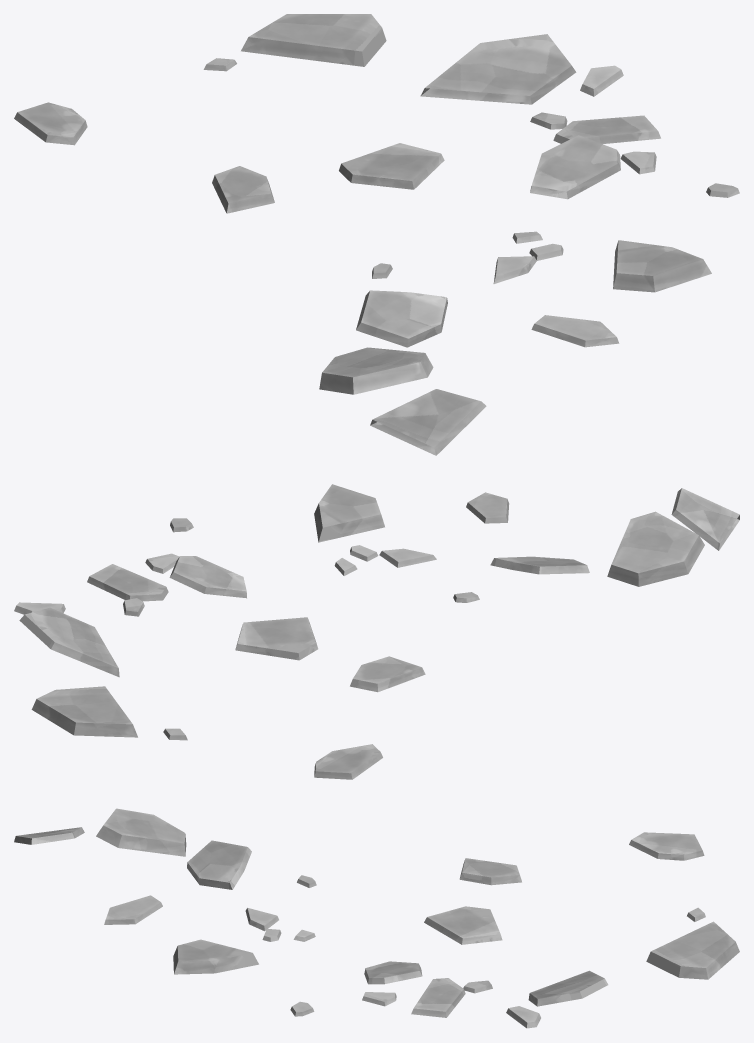
The model's file is sculpted_shards_01.glb.
3 renders of one model, top to bottom at view 1: azimuth 30°, elevation 25°; view 2: azimuth 150°, elevation 25°; view 3: azimuth 270°, elevation 25°, orthographic. The views are drawn at different scales.
Parts seen in each view (by area): view 1: sculpted_shards_01; view 2: sculpted_shards_01; view 3: sculpted_shards_01.
Part boxes in pixels (x1,y1,x2,y2): sculpted_shards_01: (14,14,739,455); sculpted_shards_01: (14,484,739,779); sculpted_shards_01: (14,808,739,1028).
Size of the model in its own units: 1.35 by 0.0993 by 2.01.
Materials: 1 (1 with a texture image).
